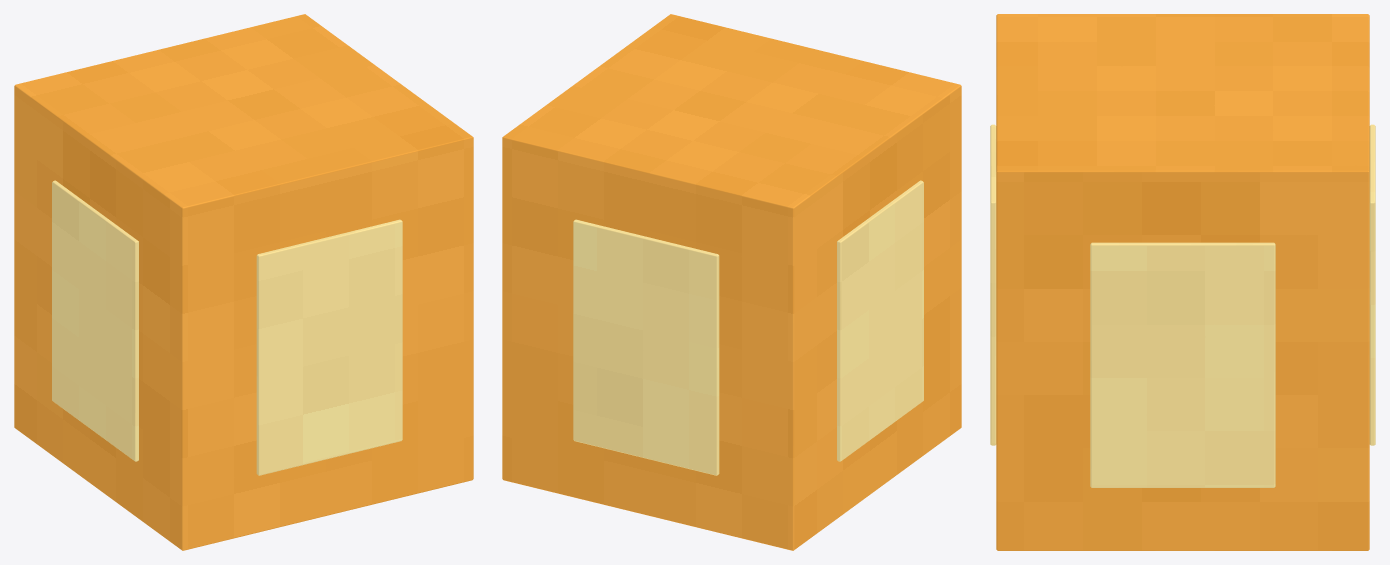
Rendered from Luminous-panes.glb.
3 renders of one model, left to right at view 1: azimuth 30°, elevation 25°; view 2: azimuth 150°, elevation 25°; view 3: azimuth 270°, elevation 25°, orthographic. The views are drawn at different scales.
Parts seen in each view (by area): view 1: Luminous-panes; view 2: Luminous-panes; view 3: Luminous-panes.
Boxes of the visible parts, x1=… form: Luminous-panes: x1=14, y1=14, x2=473, y2=550; Luminous-panes: x1=502, y1=14, x2=961, y2=550; Luminous-panes: x1=990, y1=14, x2=1375, y2=550.
Size of the model in its own units: 0.256 by 0.279 by 0.256.
Materials: 2 (2 with a texture image).
